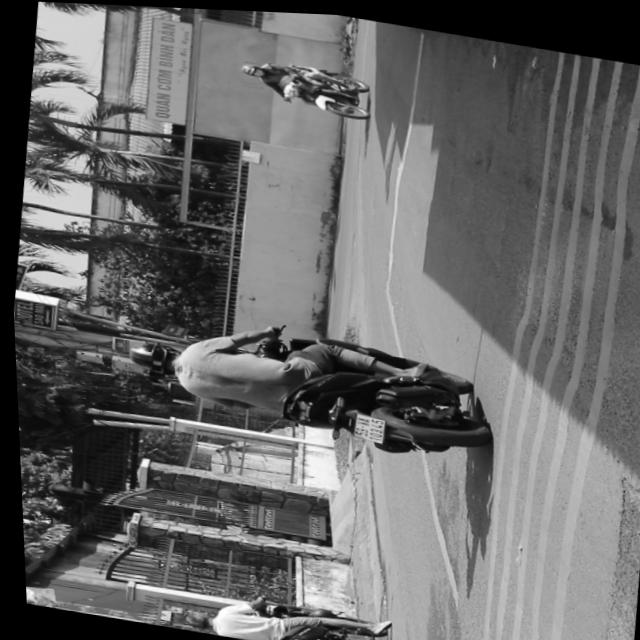helmet: (121, 338, 176, 375)
licenseplate: (112, 302, 489, 464), (168, 582, 390, 640)
motorcyclist: (174, 607, 207, 631)
nohelmet: (345, 412, 378, 440)
